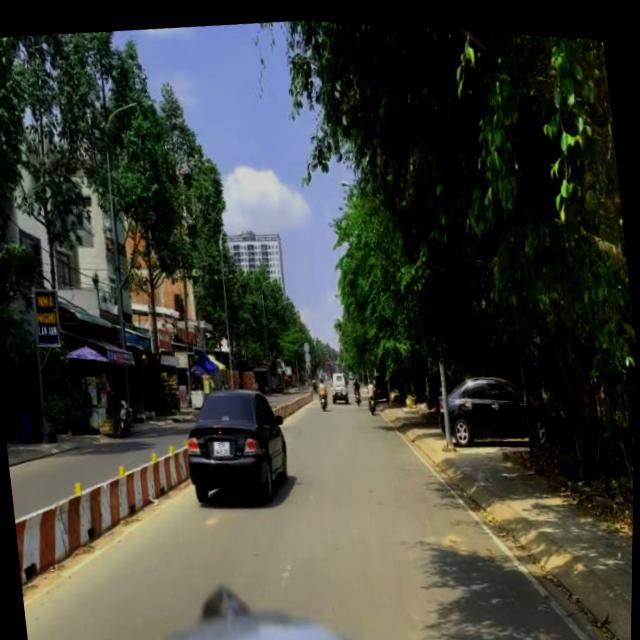Cam di nguoc chieu: (327, 354, 332, 361)
Vong chuong ngai vat sang phai: (327, 359, 332, 365)
